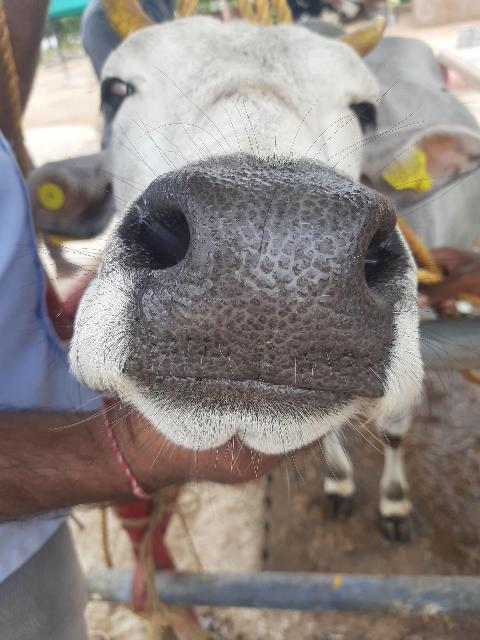Muzzle: (145, 174, 385, 398)
